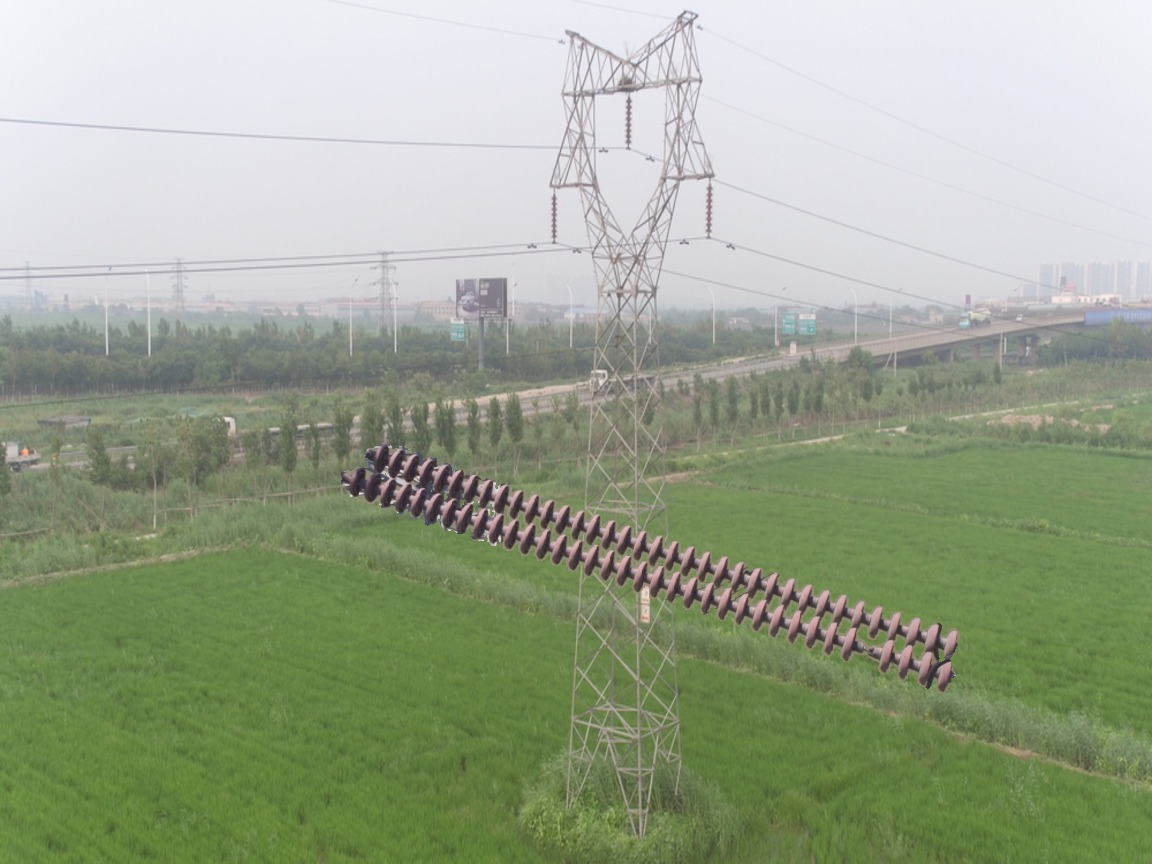defect: (838, 627, 896, 675)
